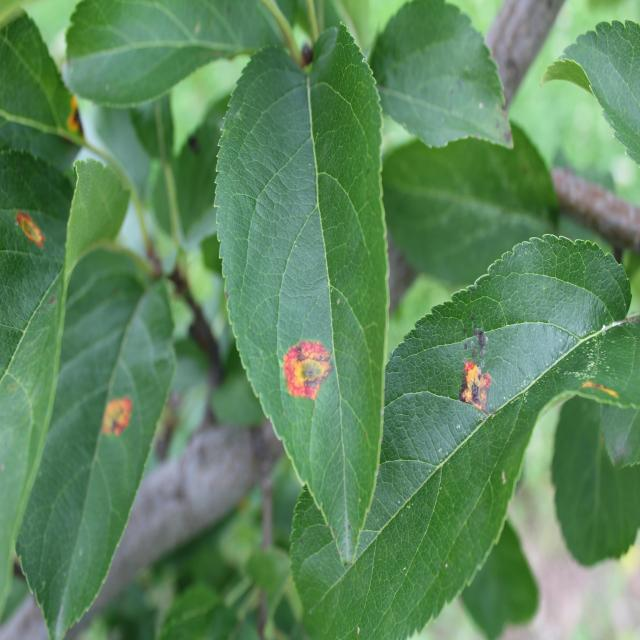Rust: (274, 315, 338, 421), (444, 350, 508, 436), (95, 385, 140, 449), (9, 202, 53, 264), (67, 82, 94, 158)
